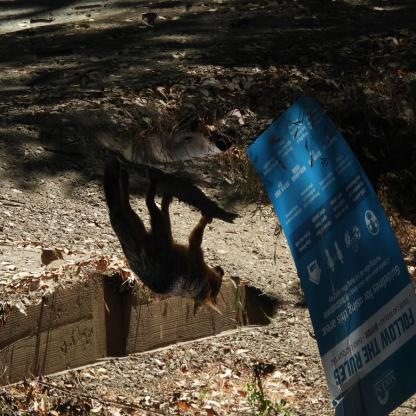zorro: (97, 153, 229, 321)
